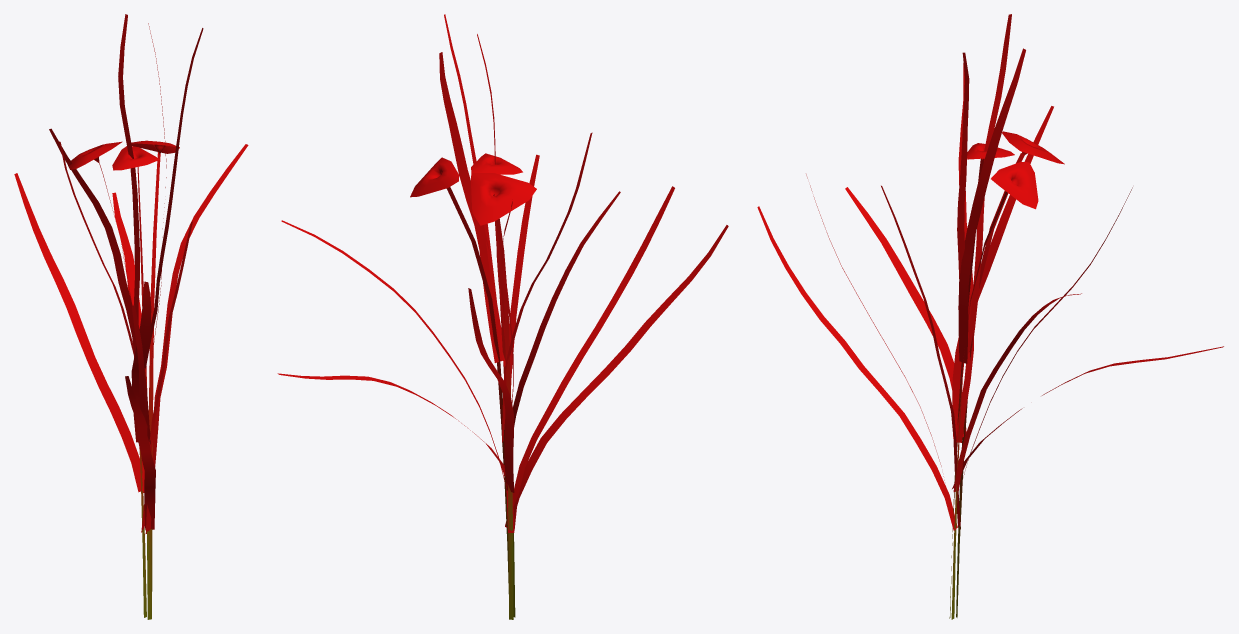
The model's file is Var16_LOD0.fbx.
The picture shows the model from 3 angles, left to right: view 1: azimuth 30°, elevation 25°; view 2: azimuth 150°, elevation 25°; view 3: azimuth 270°, elevation 25°; orthographic projection. The views are drawn at different scales.
Parts seen in each view (by area): view 1: _09ub_Var16_LOD0; view 2: _09ub_Var16_LOD0; view 3: _09ub_Var16_LOD0.
Boxes of the visible parts, <box> form: _09ub_Var16_LOD0: <box>14,14,248,619</box>; _09ub_Var16_LOD0: <box>277,14,728,619</box>; _09ub_Var16_LOD0: <box>757,14,1223,619</box>.
Bounding box in the file's own units: 8.82 × 17.69 × 12.34.
